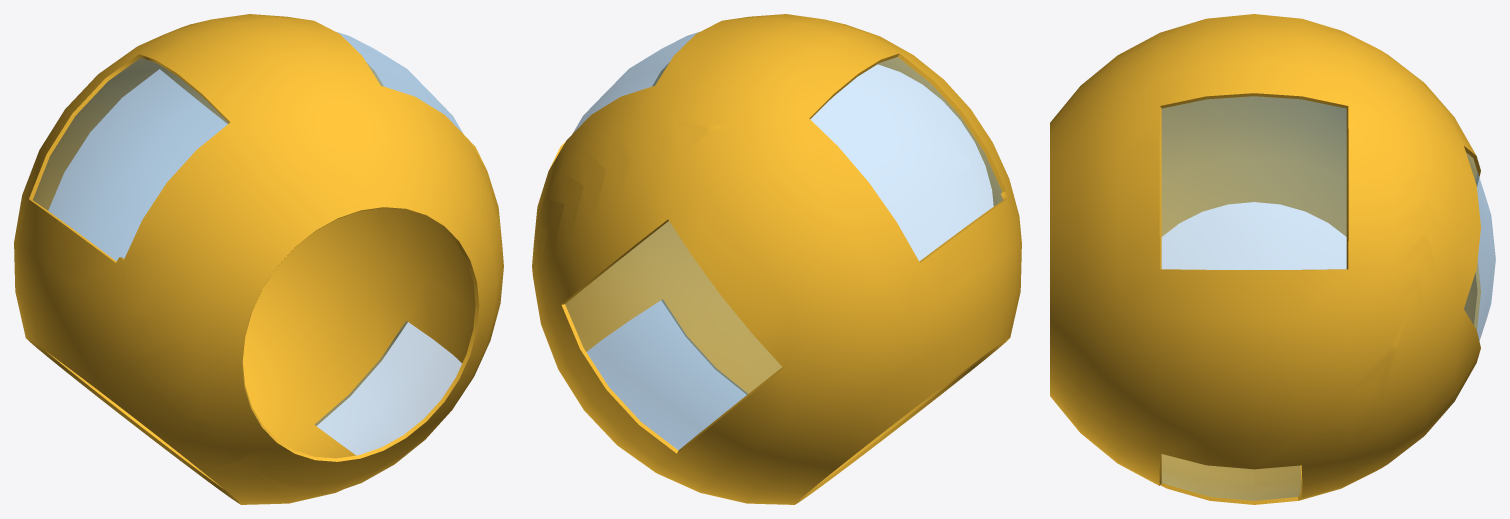
Rendered from bolaEsquina.FBX.
3 views of the same model, side by side, from view 1: azimuth 30°, elevation 25°; view 2: azimuth 150°, elevation 25°; view 3: azimuth 270°, elevation 25° (orthographic).
Visible parts, largest first — view 1: Sphere004, Object004; view 2: Sphere004, Object004; view 3: Sphere004, Object004.
Part boxes in pixels (<box>): Sphere004: <box>14,14,503,504</box>; Object004: <box>33,32,462,455</box>; Sphere004: <box>532,14,1021,504</box>; Object004: <box>565,32,1002,450</box>; Sphere004: <box>1050,14,1480,504</box>; Object004: <box>1162,96,1495,500</box>.
Size of the model in its own units: 1249 by 1133 by 1249.
